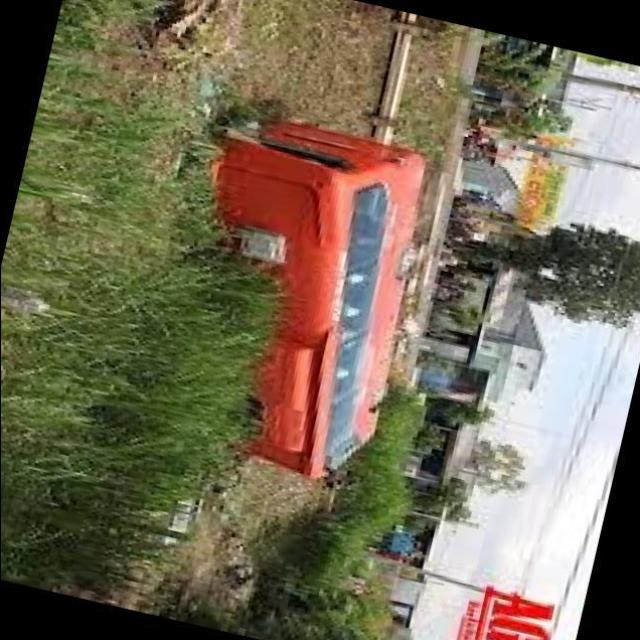accident: (160, 77, 464, 515)
